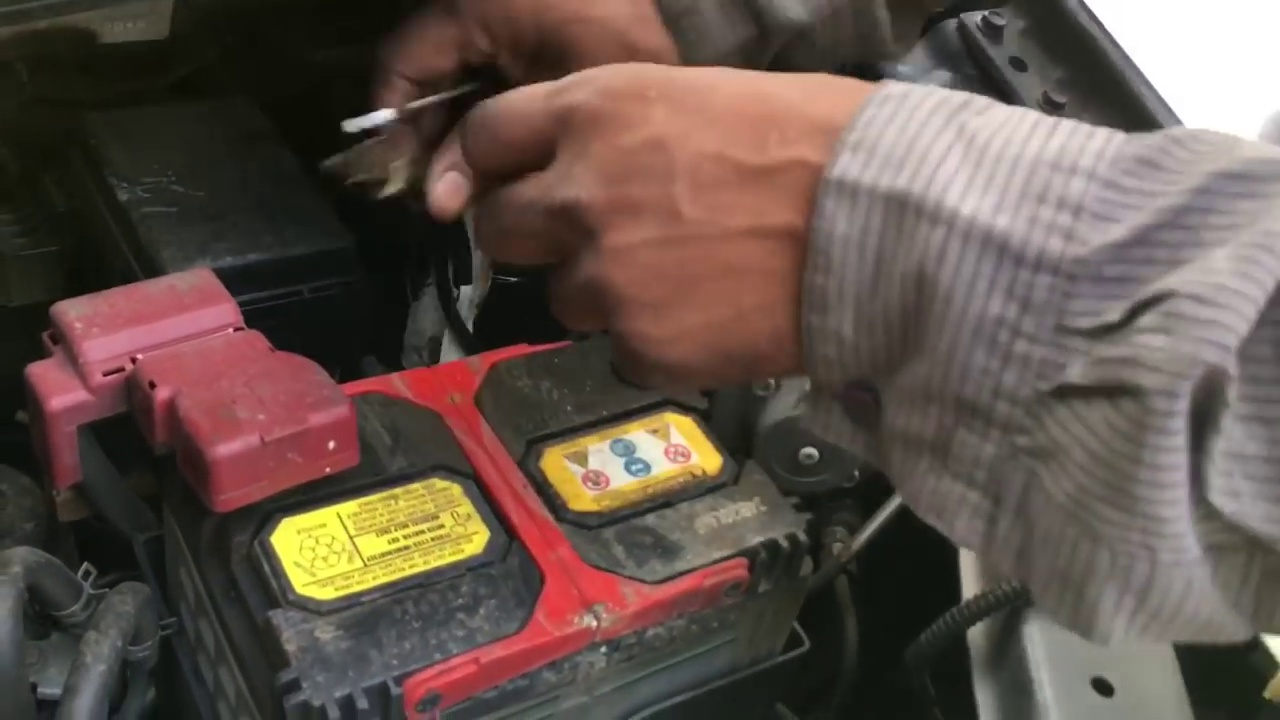battery: (152, 334, 808, 658)
pos_connected: (56, 253, 359, 498)
